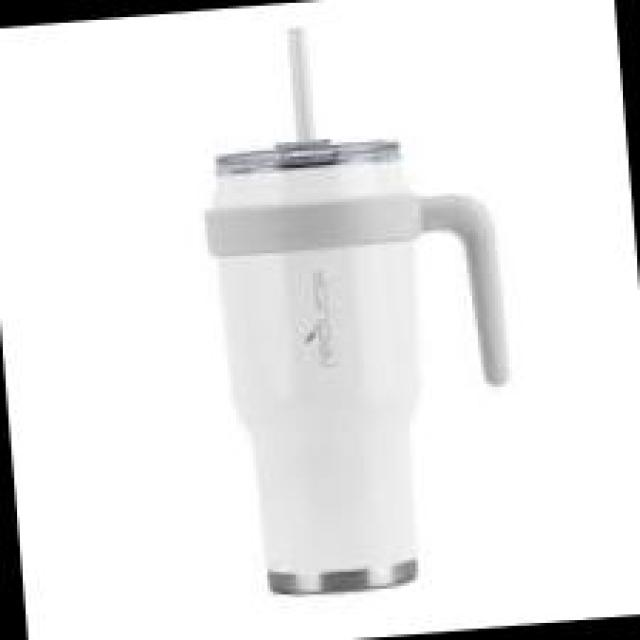bottle: (188, 9, 529, 600)
